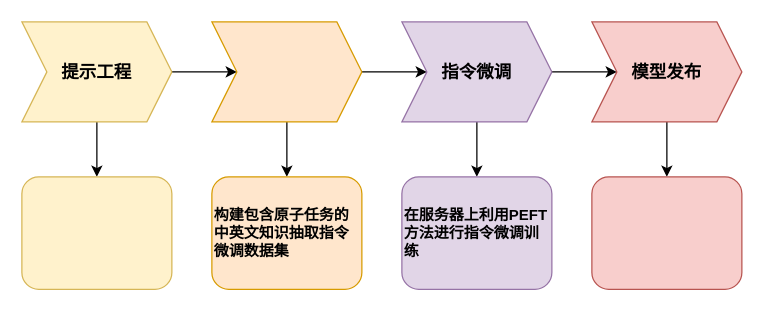
Some shapes in this 764 by 311 pixel diagram are drawn without their labels. The shapes that lost their labels are listed below. From the top down, each one's centre as x and y in pixels, then its label:
At (286,71): "数据集构建".
At (96,232): "从业务需求和LLM特点出发，构建知识抽取的Prompt".
At (666,232): "在多种实验设定下充分测试LLM性能，并用FastChat发布模型".
